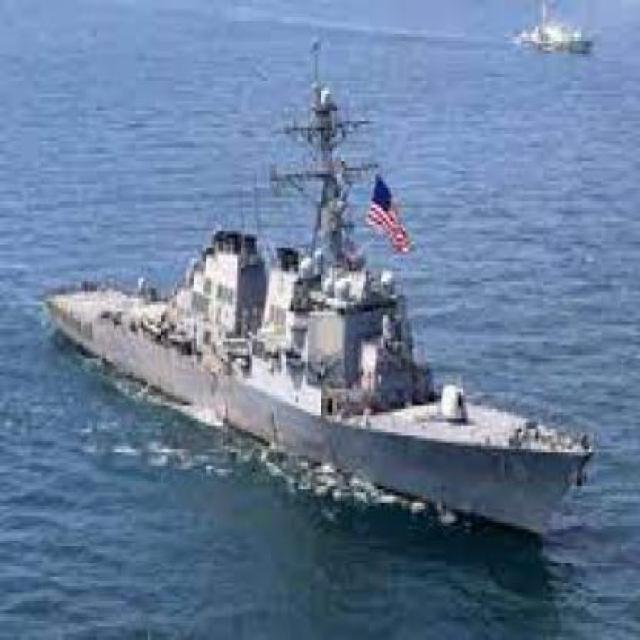warship2: (47, 112, 598, 567)
